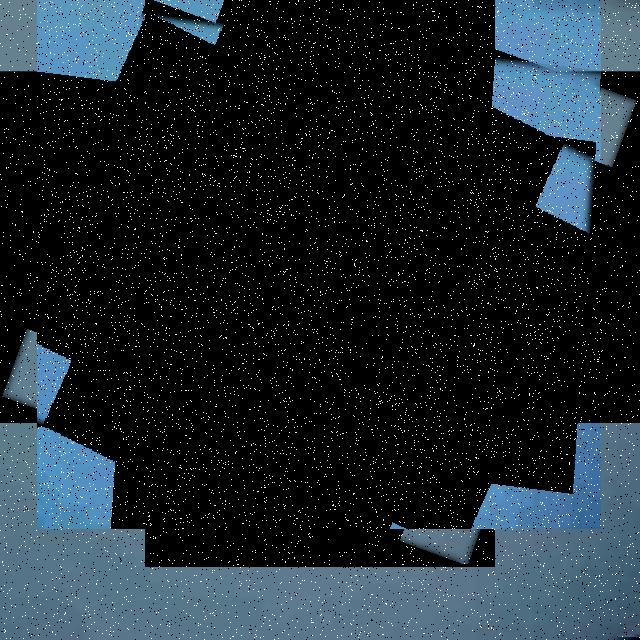dua ribu rupiah: (37, 0, 601, 529)
